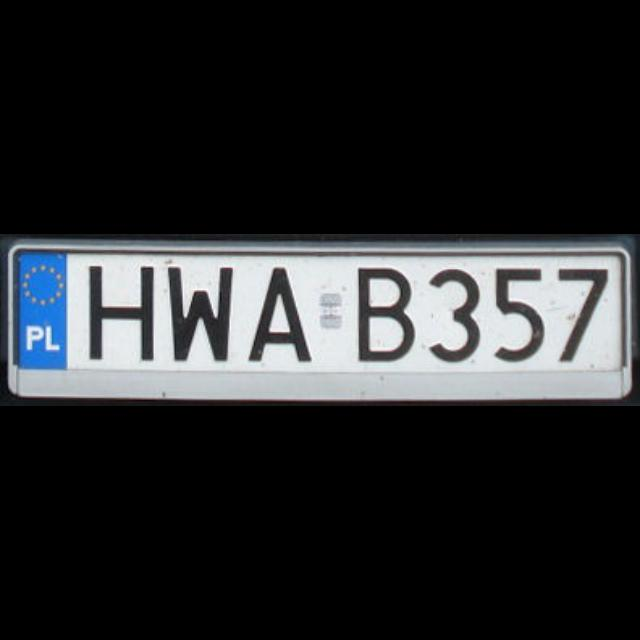pl_license_plate: (13, 247, 623, 373)
